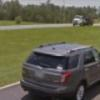cars: (21, 43, 100, 100)
